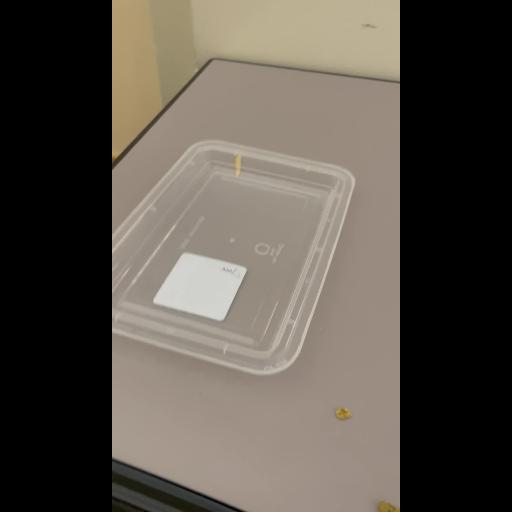rigid_plastic_lid: (112, 138, 362, 380)
